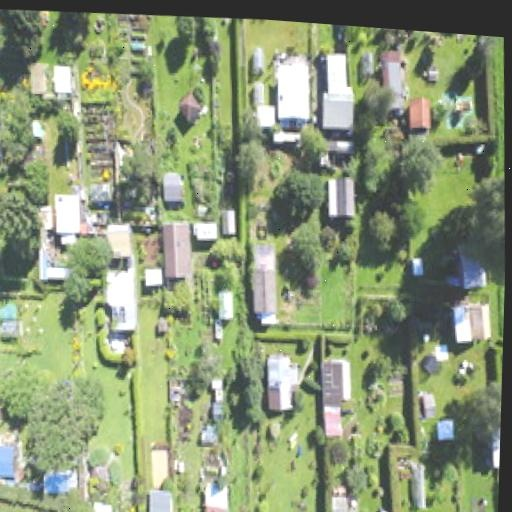tree-top: (18, 371, 108, 474), (65, 233, 112, 312), (465, 360, 502, 456), (469, 161, 507, 248), (232, 344, 266, 429), (278, 161, 327, 217), (287, 220, 327, 287), (0, 185, 40, 249), (395, 135, 439, 193), (0, 7, 44, 57), (0, 370, 35, 428), (395, 193, 431, 238), (191, 342, 223, 388), (50, 103, 81, 148), (235, 138, 268, 180), (368, 206, 396, 250), (168, 15, 202, 46)
